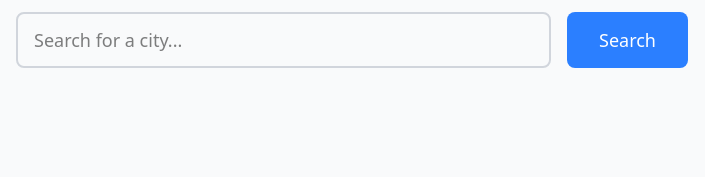
Test: SearchBar › shows suggestions when typing
Type "Vie" into the field with placeholder "Search for a city..." at (284, 40), box [16,12,551,68]
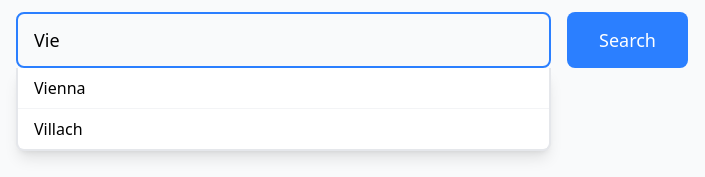
Check: the text "Vienna" is shown, box [18,68,549,109]
Check: the text "Villach" is shown, box [34,118,82,140]
